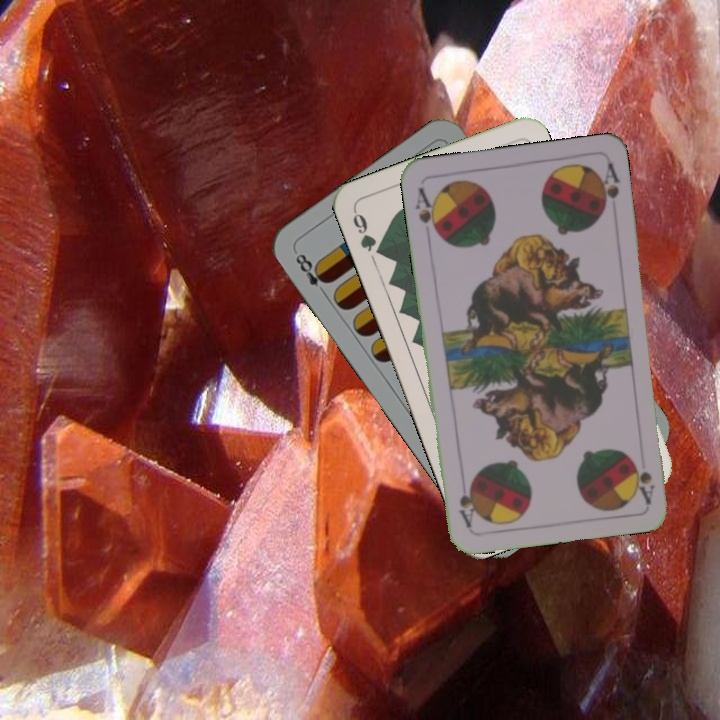E8: (291, 249, 333, 299)
G9: (348, 206, 387, 259)
SA: (411, 183, 442, 241), (632, 458, 657, 505)
